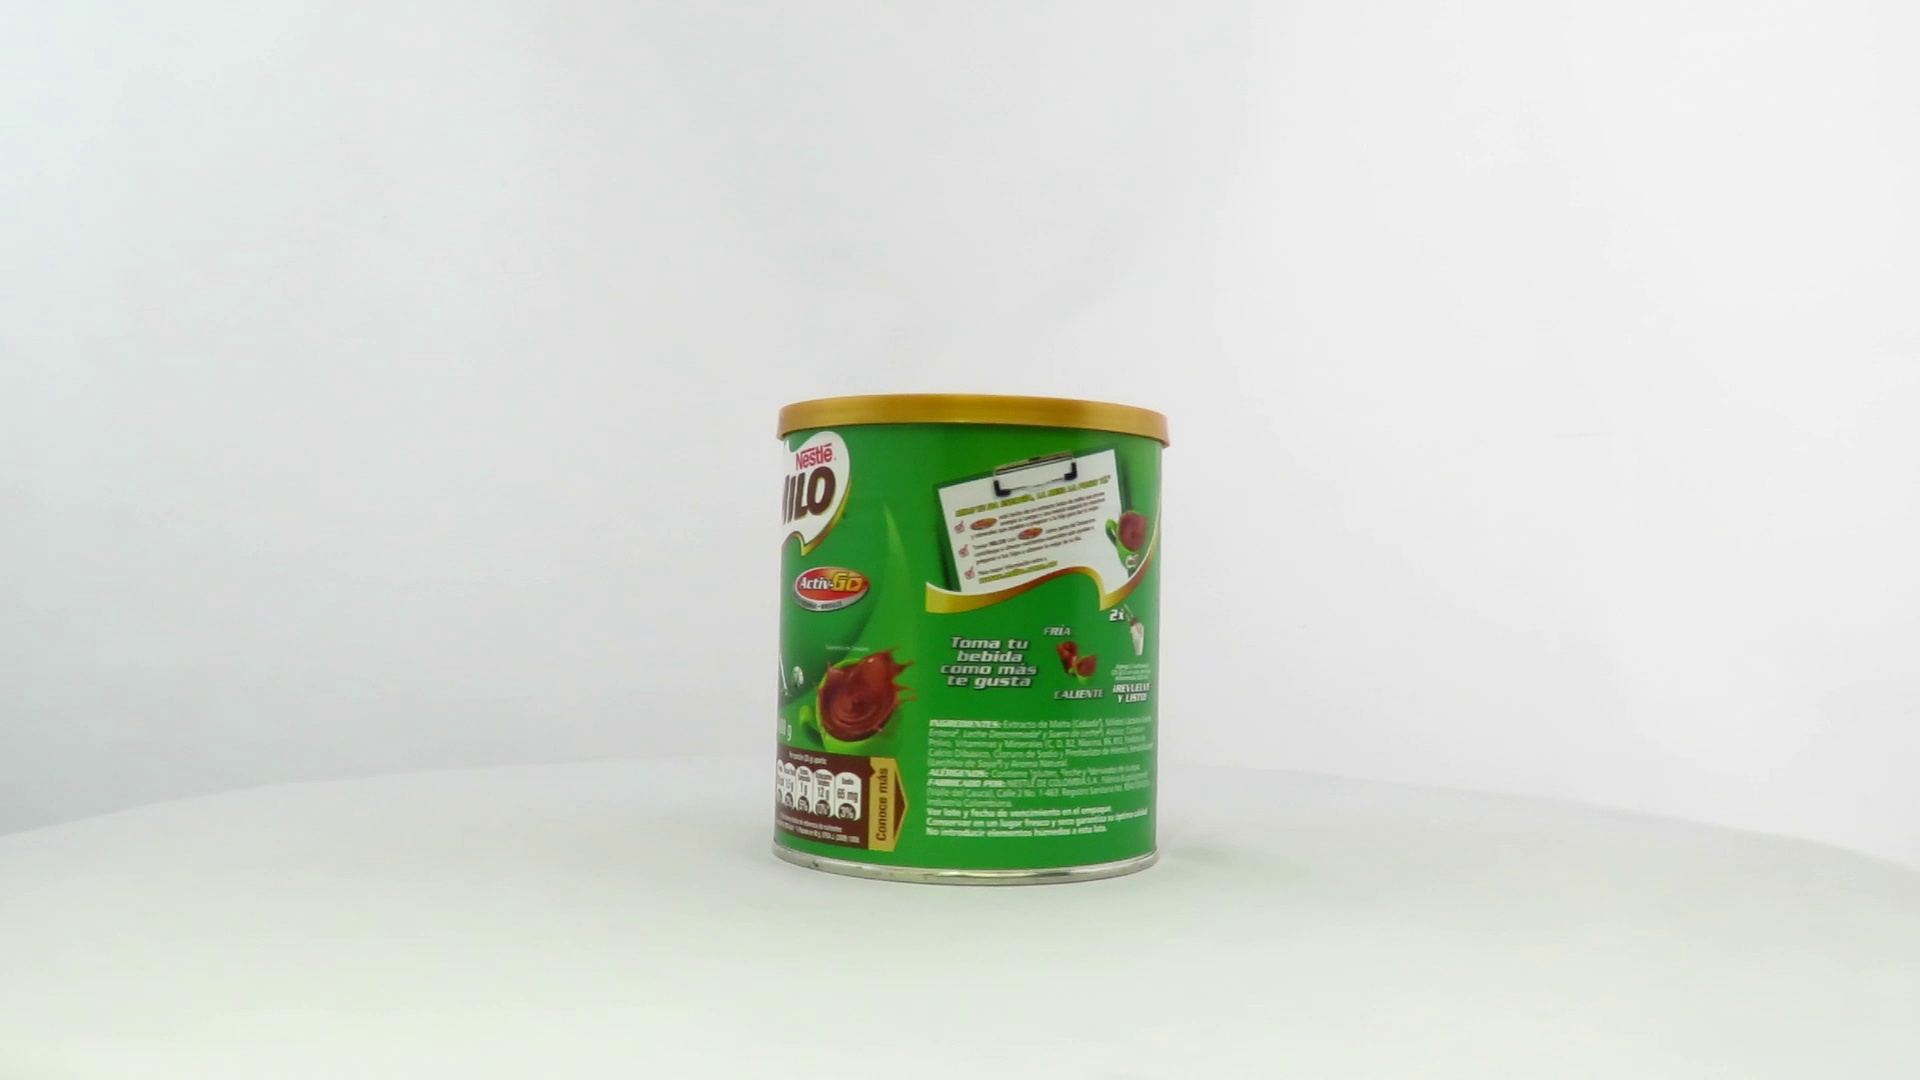COL0170203LAT40000: (766, 388, 1175, 893)
